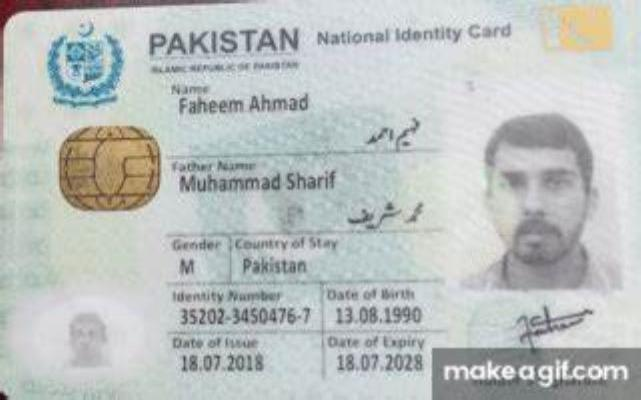fname: (178, 170, 338, 192)
name: (176, 91, 313, 117)
number: (176, 302, 314, 330)
